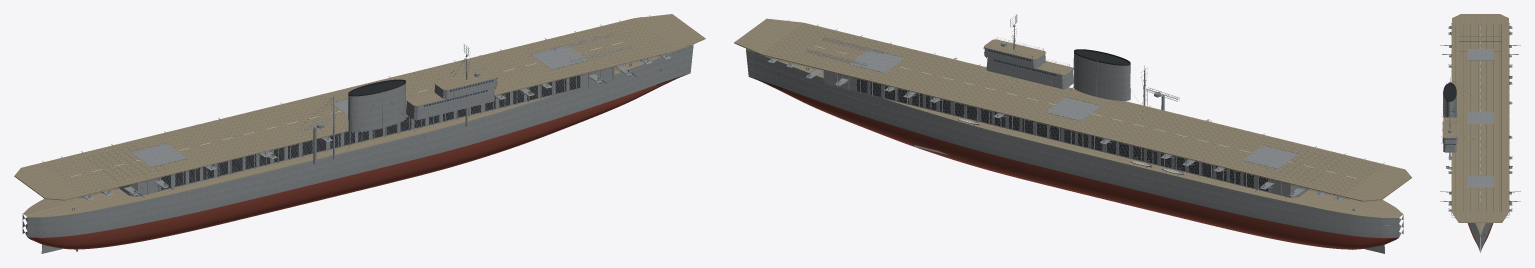
File: demo-enterprise.glb
The picture shows the model from 3 angles, left to right: view 1: azimuth 30°, elevation 25°; view 2: azimuth 150°, elevation 25°; view 3: azimuth 270°, elevation 25°; orthographic projection. The views are drawn at different scales.
Parts seen in each view (by area): view 1: USS Enterprise (CV-6), Midway1942; view 2: USS Enterprise (CV-6), Midway1942; view 3: USS Enterprise (CV-6), Midway1942.
Boxes of the visible parts, x1=… form: USS Enterprise (CV-6), Midway1942: x1=14, y1=14, x2=705, y2=253; USS Enterprise (CV-6), Midway1942: x1=734, y1=14, x2=1411, y2=253; USS Enterprise (CV-6), Midway1942: x1=1440, y1=14, x2=1520, y2=252.
Bounding box in the file's own units: 247 × 45.45 × 39.92.
9 materials, 2 textured.
